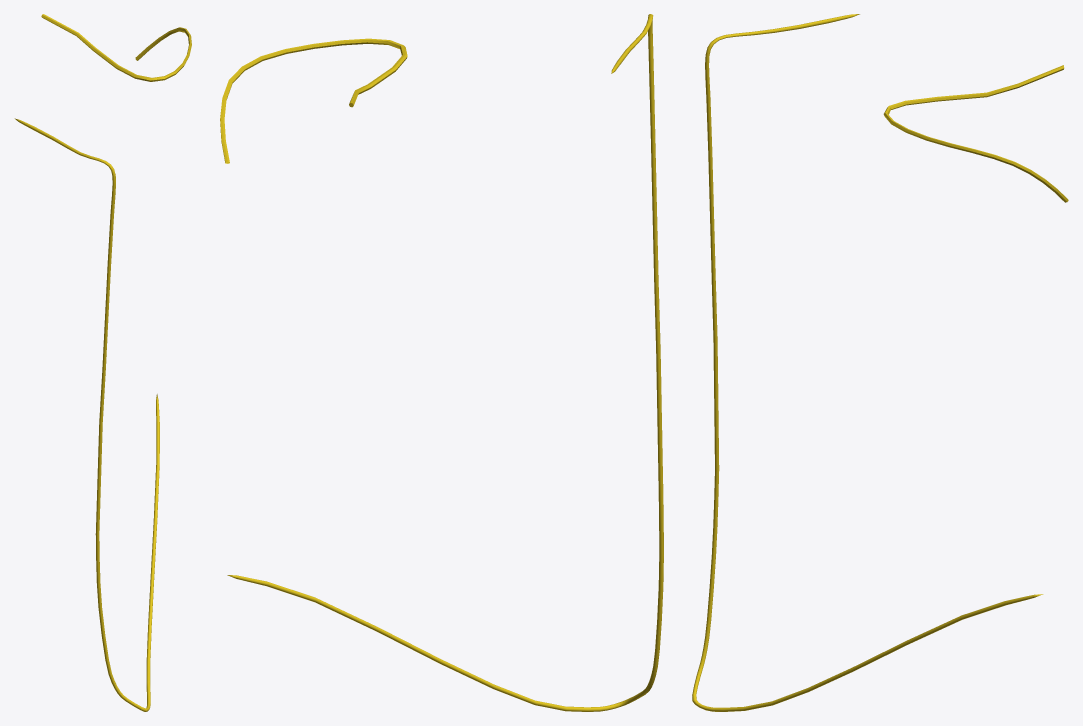
File: wires_desk.FBX
3 views of the same model, side by side, from view 1: azimuth 30°, elevation 25°; view 2: azimuth 150°, elevation 25°; view 3: azimuth 270°, elevation 25° (orthographic). The views are drawn at different scales.
Visible parts, largest first — view 1: wires_desk; view 2: wires_desk; view 3: wires_desk.
Boxes of the visible parts, <box> form: wires_desk: <box>14,14,191,711</box>; wires_desk: <box>220,14,663,711</box>; wires_desk: <box>692,14,1068,711</box>.
Size of what is drawn, in the model's own units: 42.5 by 50.86 by 100.
